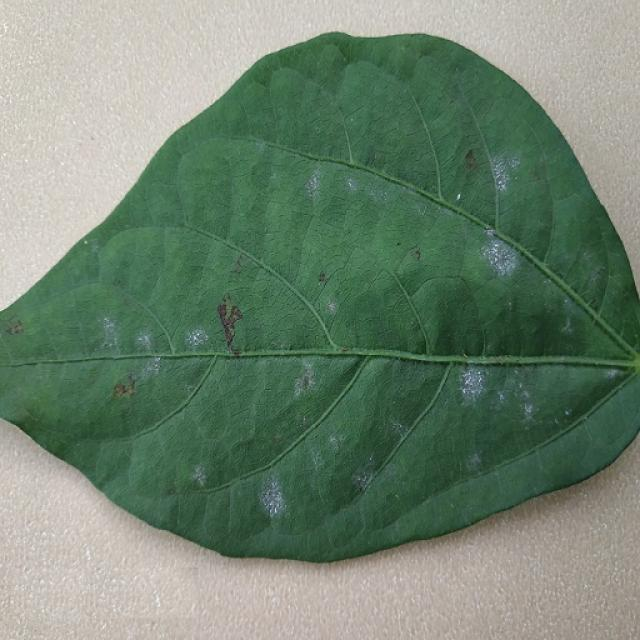Blackgram: (0, 35, 639, 560)
Powdery_Mildew: (463, 363, 541, 419), (477, 242, 527, 283), (174, 319, 224, 352), (259, 477, 285, 516), (458, 366, 487, 399), (580, 265, 607, 300), (490, 157, 517, 190), (365, 180, 397, 206), (292, 364, 316, 398), (99, 316, 120, 349), (138, 358, 163, 385), (309, 446, 328, 473), (352, 469, 372, 493), (304, 172, 320, 195), (192, 464, 208, 487), (136, 333, 153, 351), (560, 313, 574, 334), (468, 453, 482, 470), (390, 418, 405, 433), (326, 300, 338, 315), (328, 434, 340, 448), (606, 369, 619, 379), (346, 178, 356, 190), (484, 228, 495, 238), (456, 193, 462, 201)
